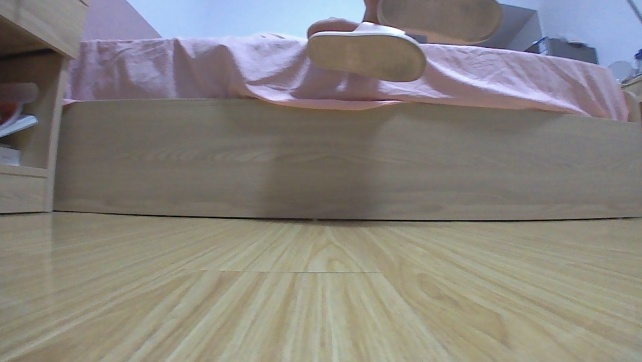bed: (51, 0, 641, 224)
